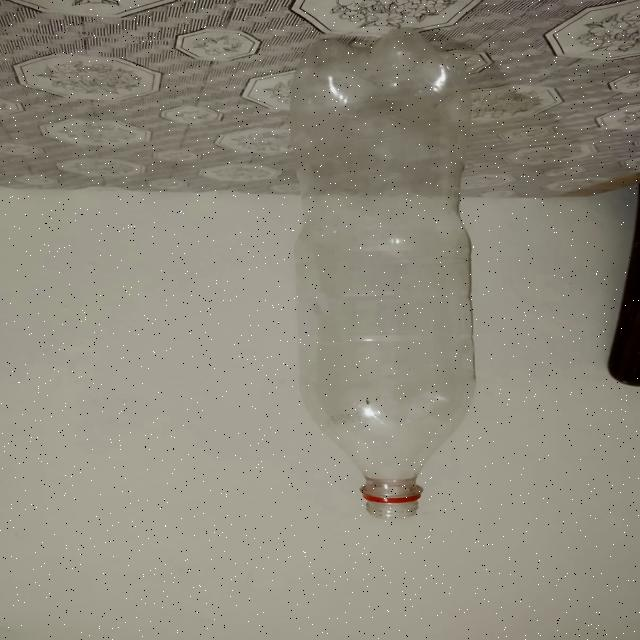bottle: (282, 32, 489, 525)
